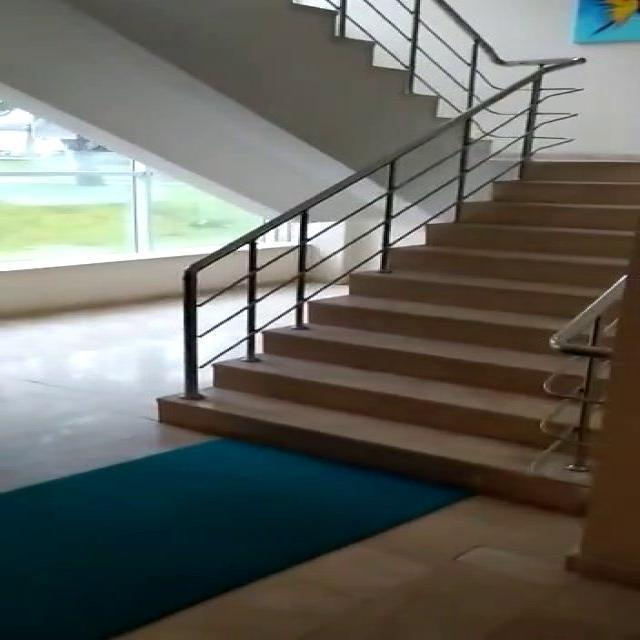stairs: (154, 157, 638, 514)
